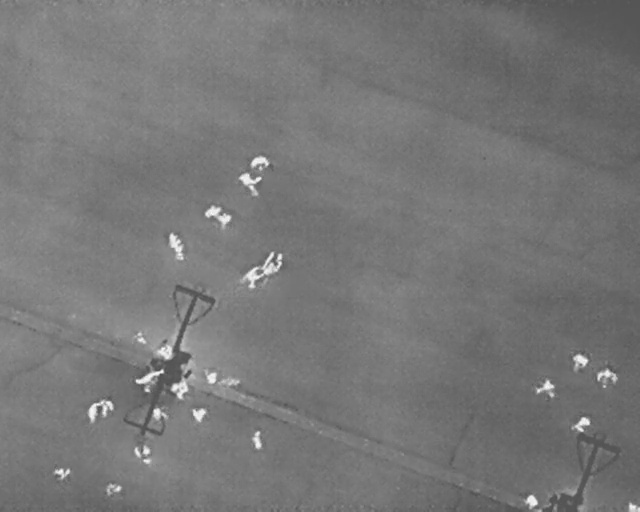Person: (234, 164, 269, 203), (567, 410, 596, 441), (132, 367, 164, 393), (567, 348, 591, 379), (262, 252, 282, 284), (596, 364, 619, 390), (241, 265, 261, 291), (533, 377, 556, 399), (130, 445, 152, 465), (250, 153, 273, 171), (98, 396, 115, 420), (170, 379, 188, 400), (156, 342, 174, 360), (151, 404, 169, 422), (201, 367, 218, 386), (103, 481, 123, 497), (523, 491, 539, 511), (190, 407, 207, 424), (87, 403, 100, 425), (53, 467, 72, 481), (217, 214, 234, 229), (203, 204, 221, 218), (250, 431, 264, 449), (168, 230, 179, 248), (174, 244, 186, 260), (134, 330, 148, 343), (626, 501, 639, 509)
